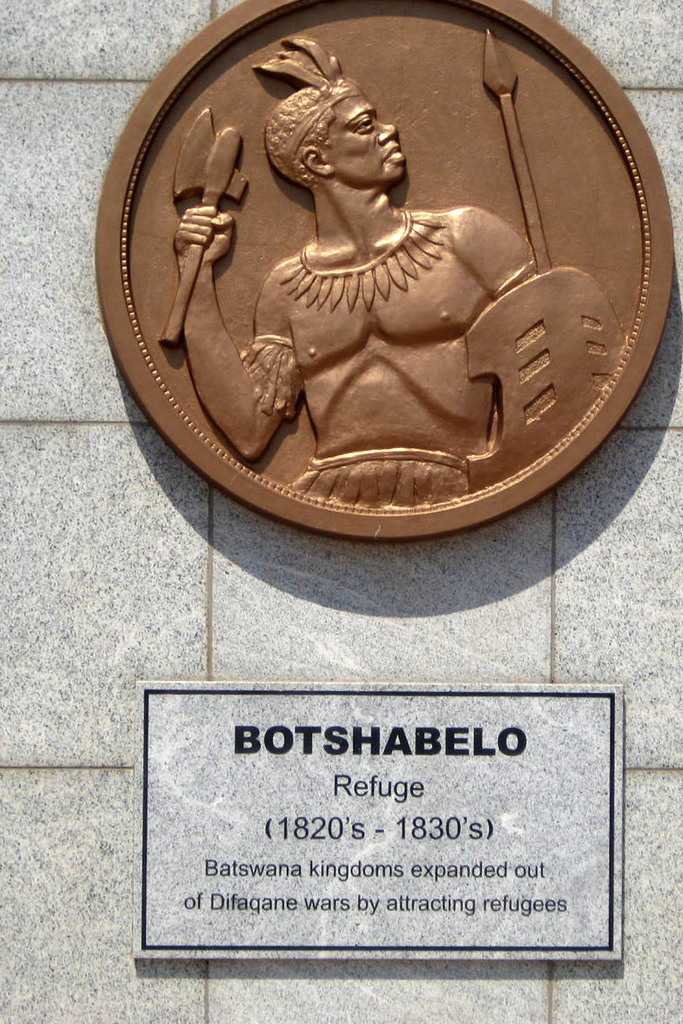face: (325, 83, 403, 183)
